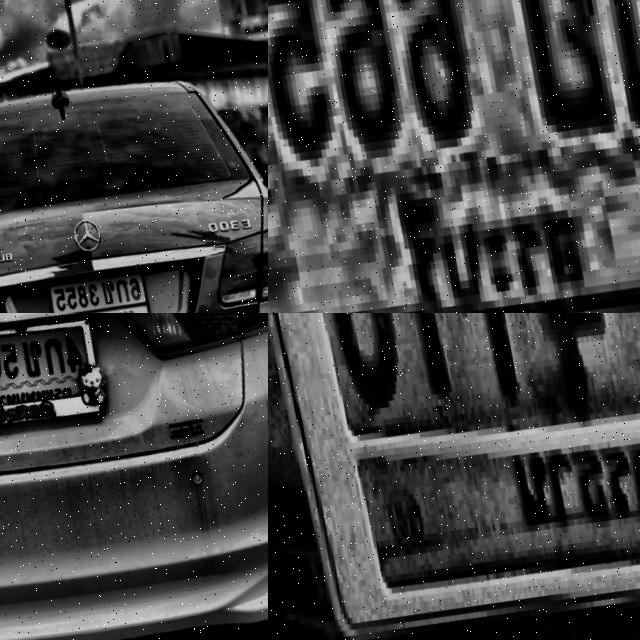license-plate: (268, 313, 640, 640), (268, 0, 640, 313), (0, 313, 114, 443), (47, 248, 163, 313)
